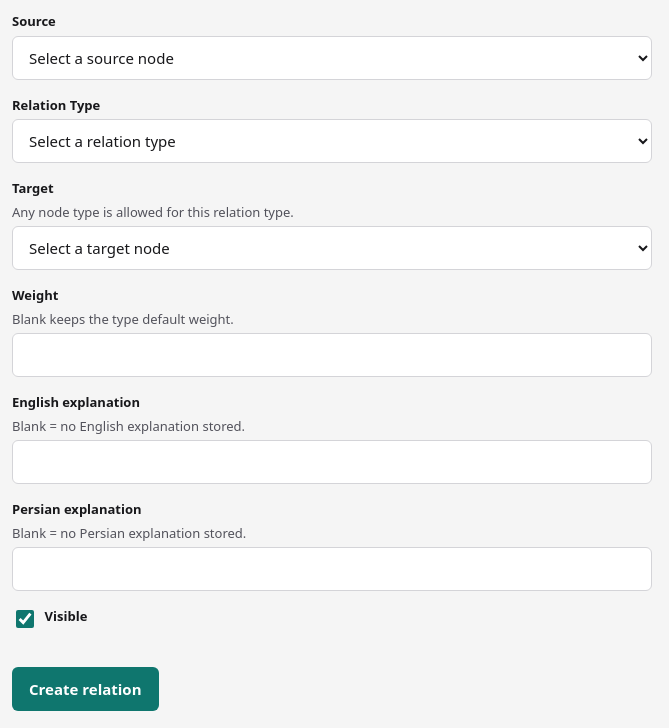
Test case: RelationForm (Plan B Task 12) › shows Directed for an overridable type
Select "contains" in the dropdown labelled "Relation Type": (332, 141) [12,119,652,163]
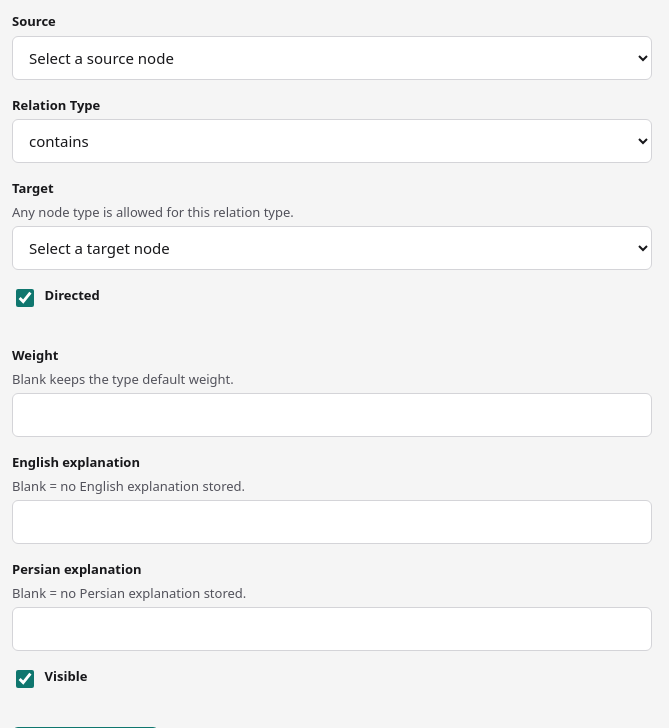
Expected: the checkbox labelled "Directed" is shown, [16,289,34,307]
